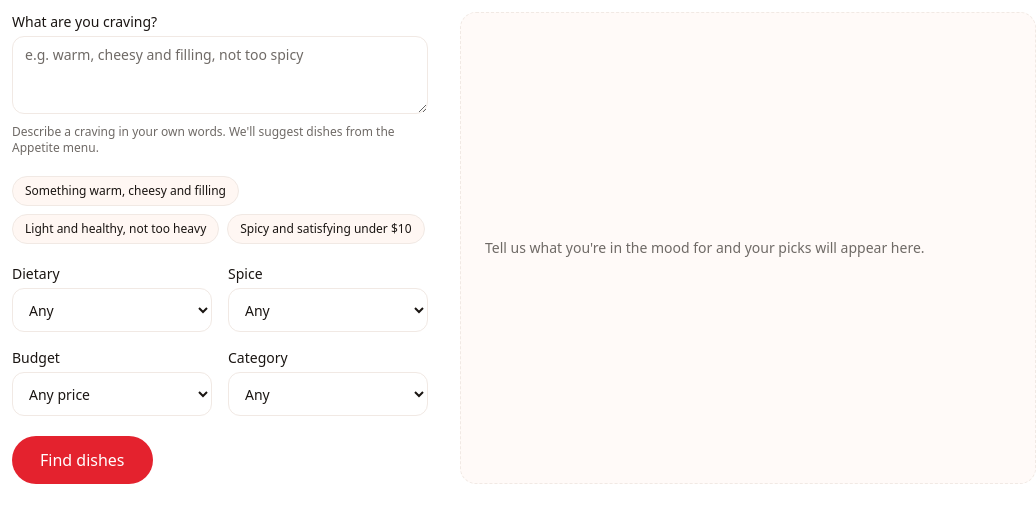
Test: RecommendForm › shows the fallback status message when source is fallback
The image size is (1036, 507).
Type "anything" into the text box labelled "What are you craving?".
click(220, 75); type("anything")  # box left=12, top=36, right=428, bottom=114
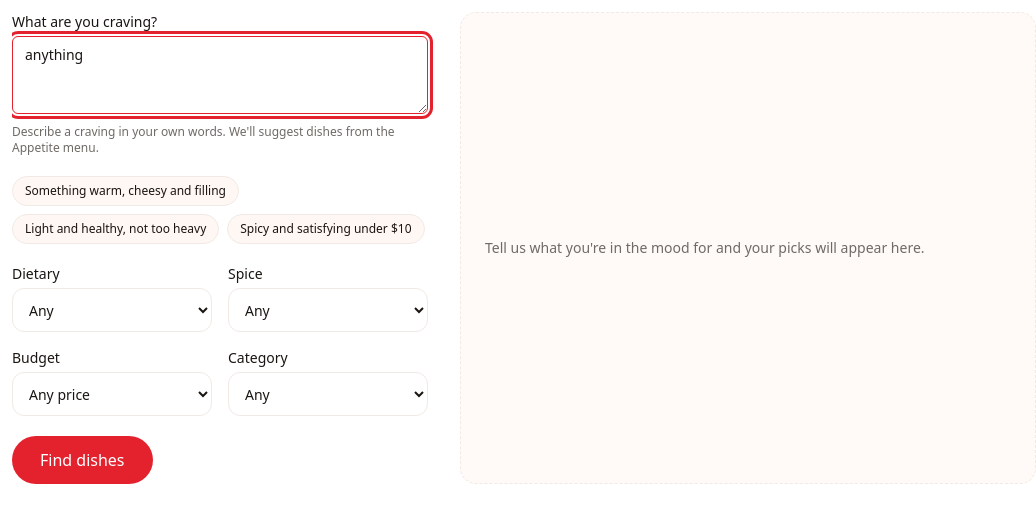
Click the button "Find dishes".
click(82, 460)  # box left=12, top=436, right=152, bottom=484
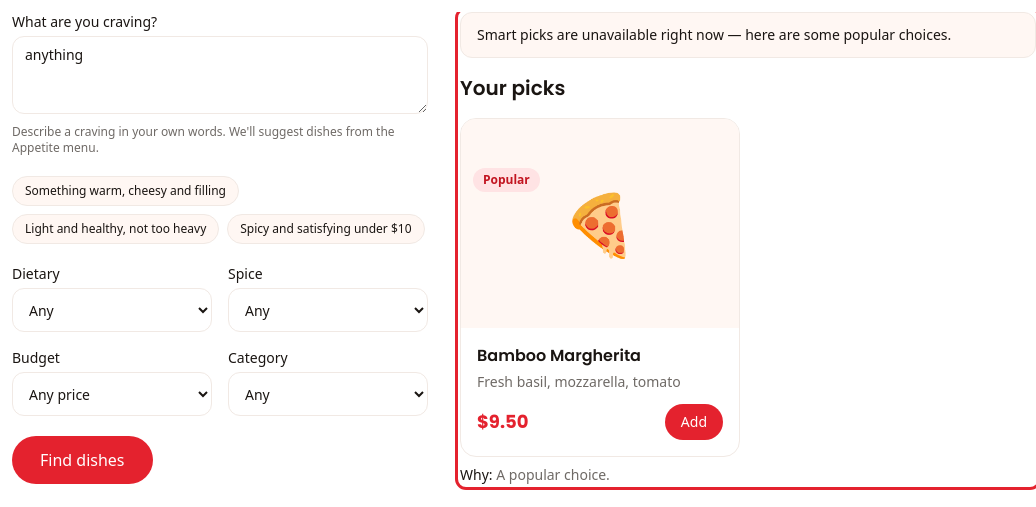
Check: the text "Smart picks are unavailable right now — here are some popular choices." is shown, box left=460, top=12, right=1035, bottom=58
Check: the heading "Bamboo Margherita" is shown, box left=477, top=344, right=641, bottom=366
